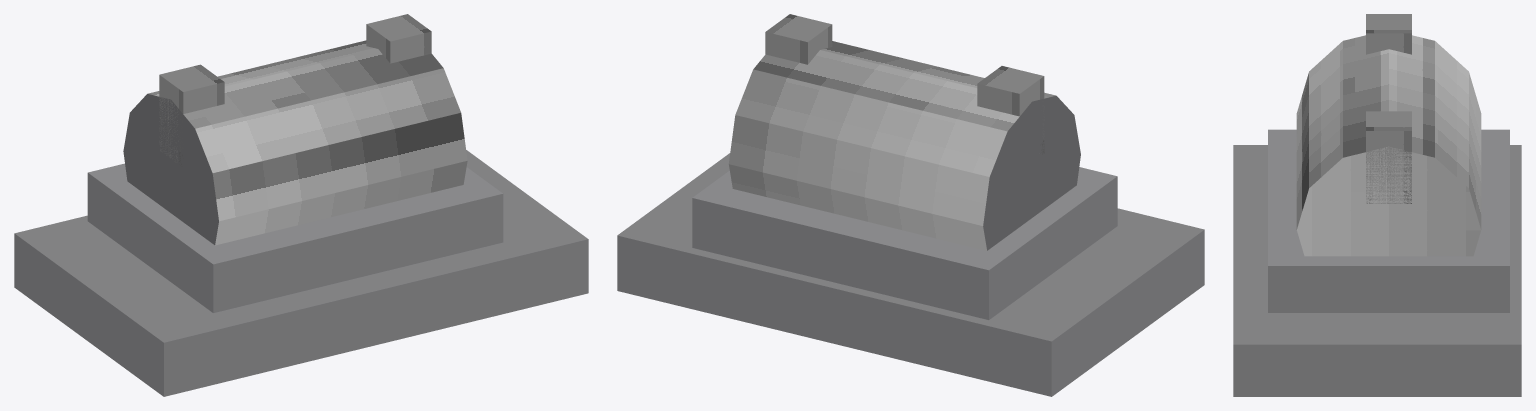
Rendered from Building_TrapIED_Firefoam.glb.
The picture shows the model from 3 angles, left to right: view 1: azimuth 30°, elevation 25°; view 2: azimuth 150°, elevation 25°; view 3: azimuth 270°, elevation 25°; orthographic projection. The views are drawn at different scales.
Visible parts, largest first — view 1: TrapIED_Firefoam; view 2: TrapIED_Firefoam; view 3: TrapIED_Firefoam.
Boxes of the visible parts, x1,y1,x2,y2 form: TrapIED_Firefoam: (14,14,588,396); TrapIED_Firefoam: (617,14,1204,396); TrapIED_Firefoam: (1233,14,1521,396).
Size of the model in its own units: 0.82 by 0.43 by 0.5.
1 material, 1 textured.
